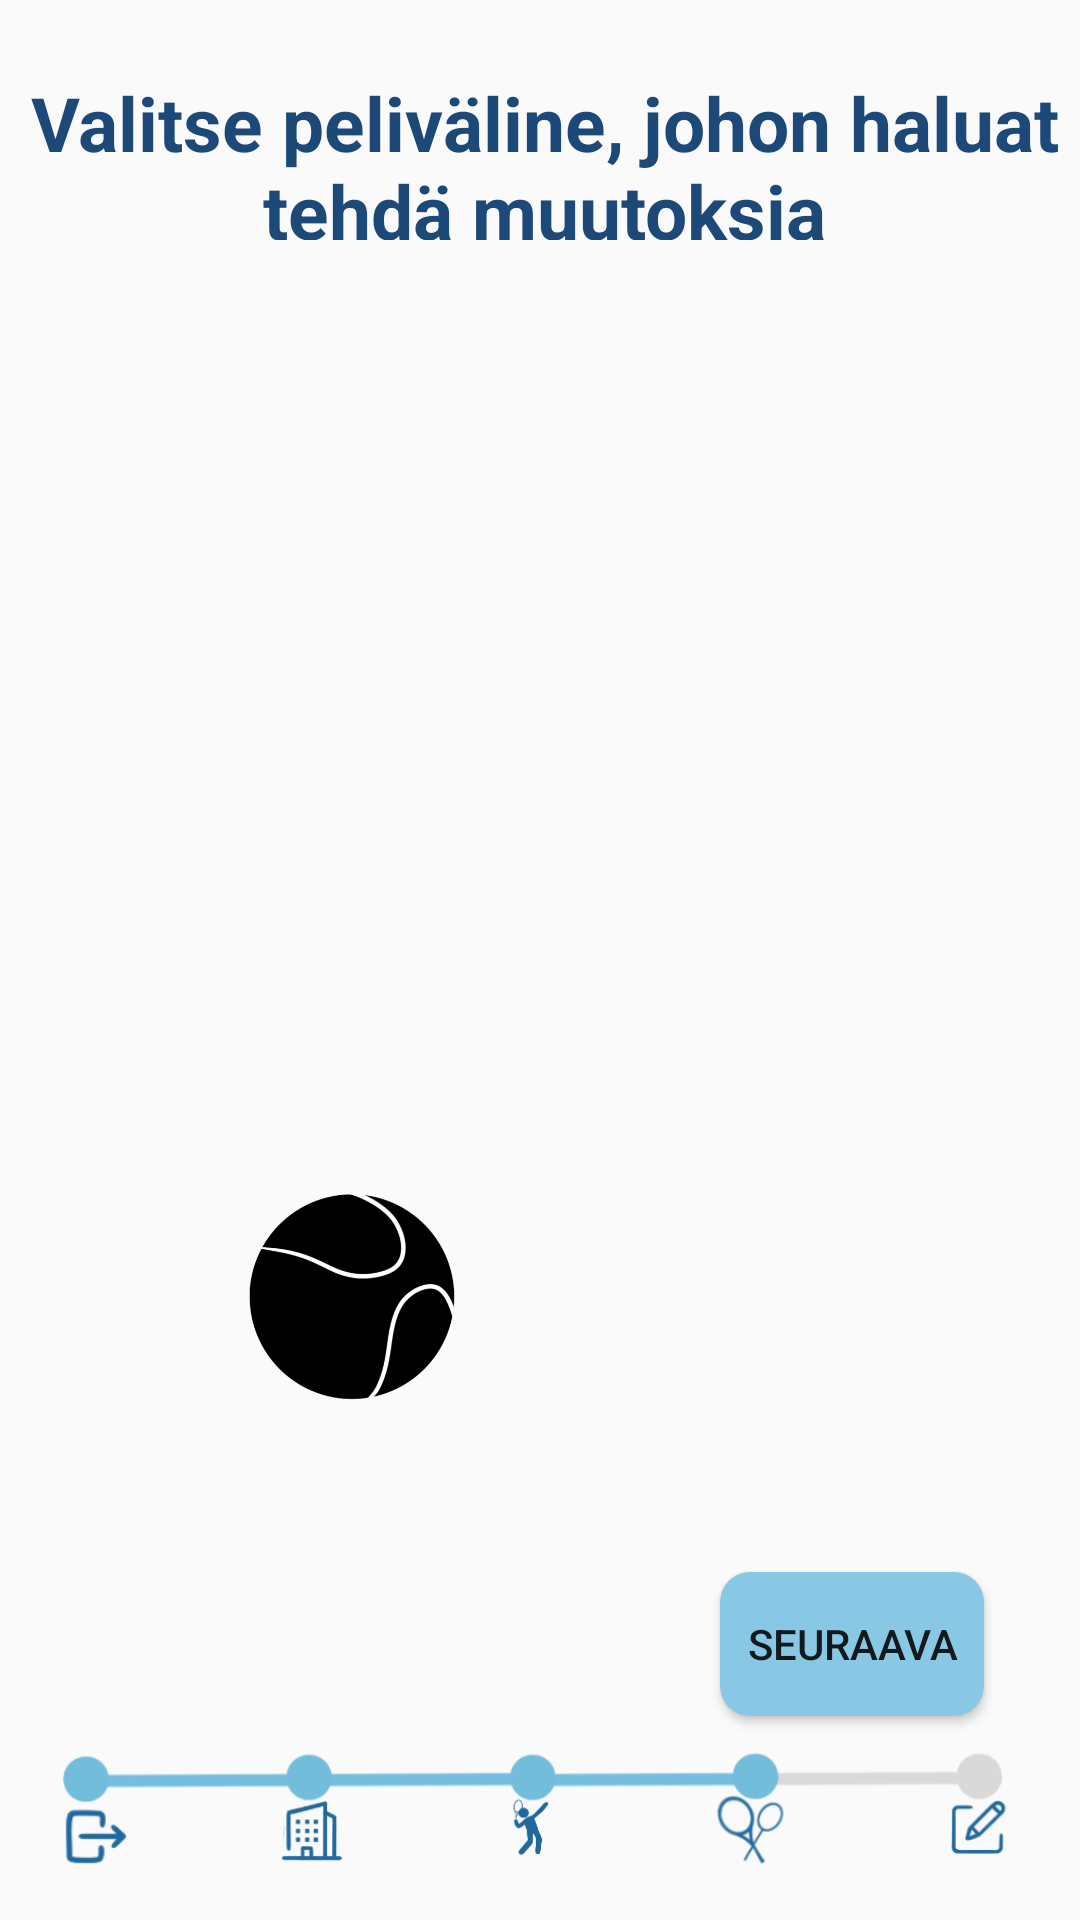

Point at icon controls on the screen. Image size 1080 x 1920, points as [x,y].
tennispallo: [352,1296]
